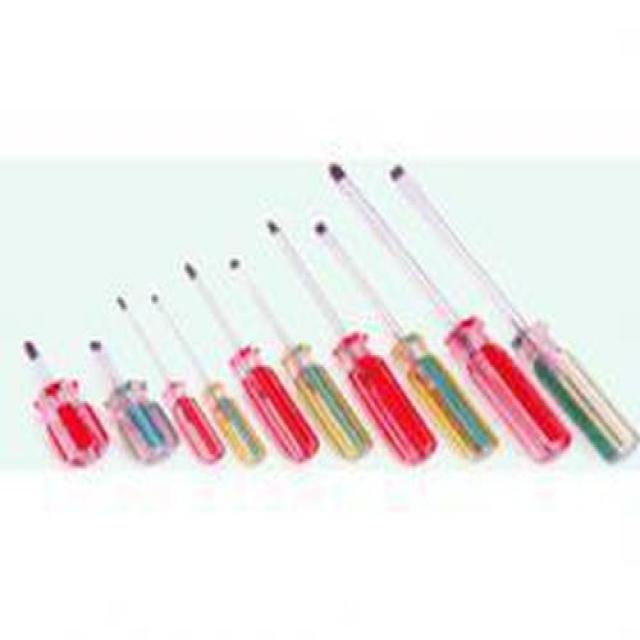screw driver: (379, 148, 640, 458)
